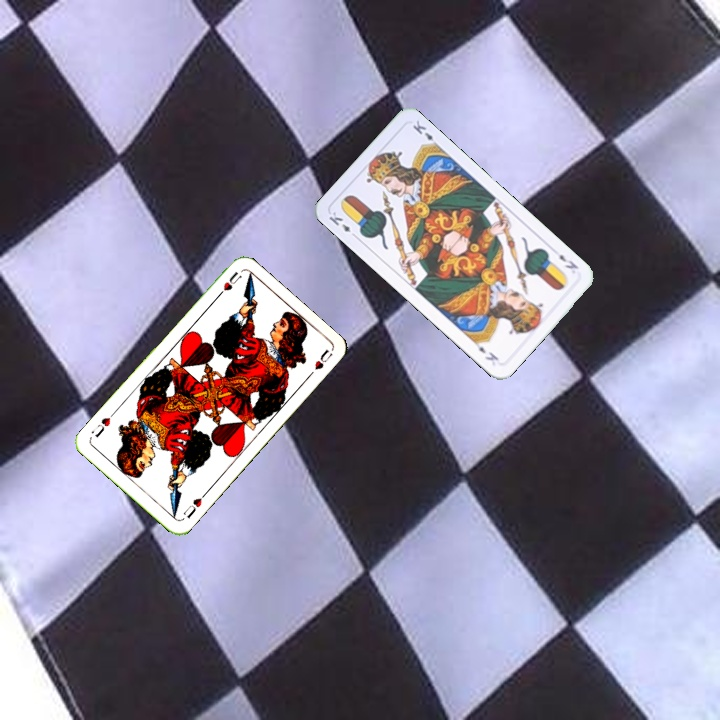EK: (325, 207, 360, 241), (555, 250, 581, 272)
HU: (212, 267, 244, 301), (179, 489, 209, 521)
